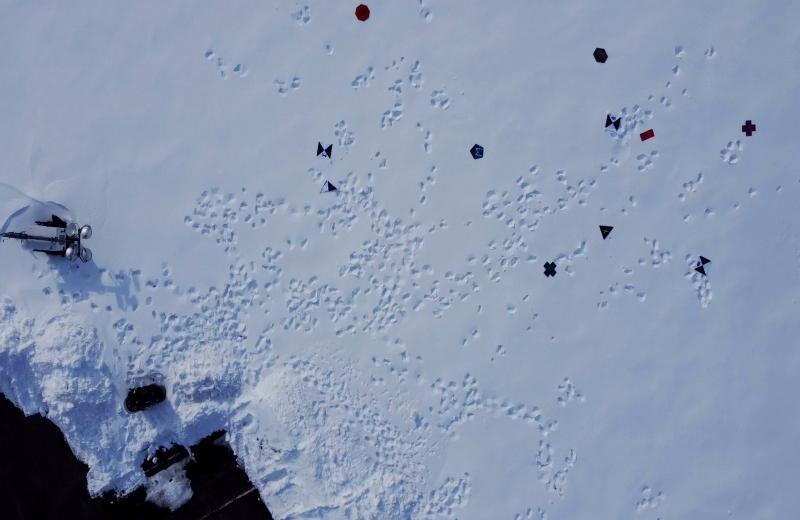Cross: (542, 260, 559, 279), (741, 120, 757, 138)
Hexagon: (592, 46, 608, 65)
Octagon: (353, 4, 372, 22)
Pentagon: (468, 141, 485, 162)
Rectangle: (639, 128, 656, 142)
Triangle: (598, 221, 614, 241)
